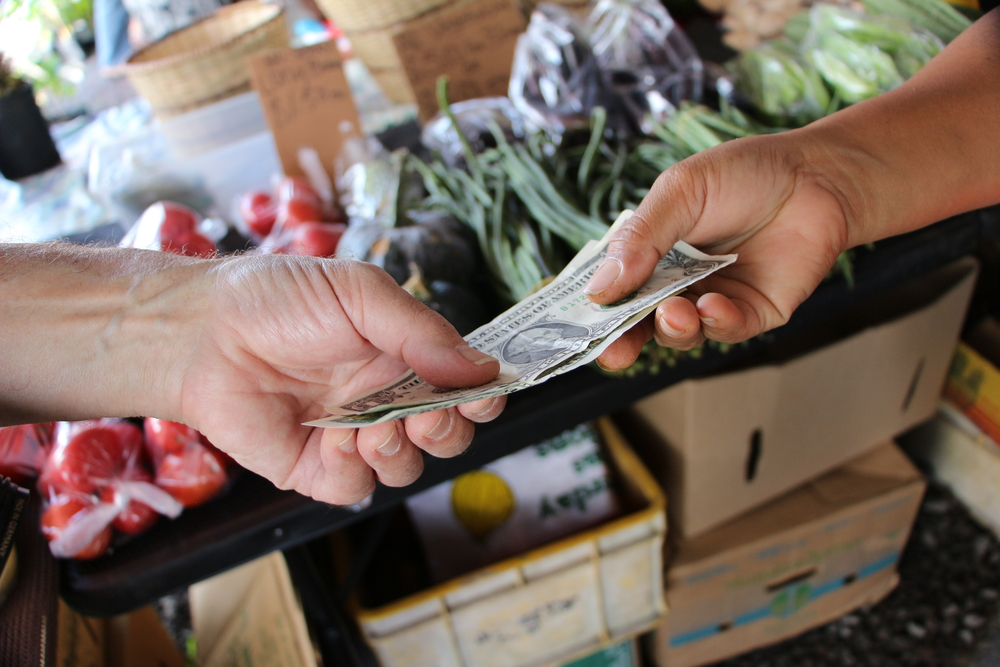billete: (293, 208, 738, 429)
